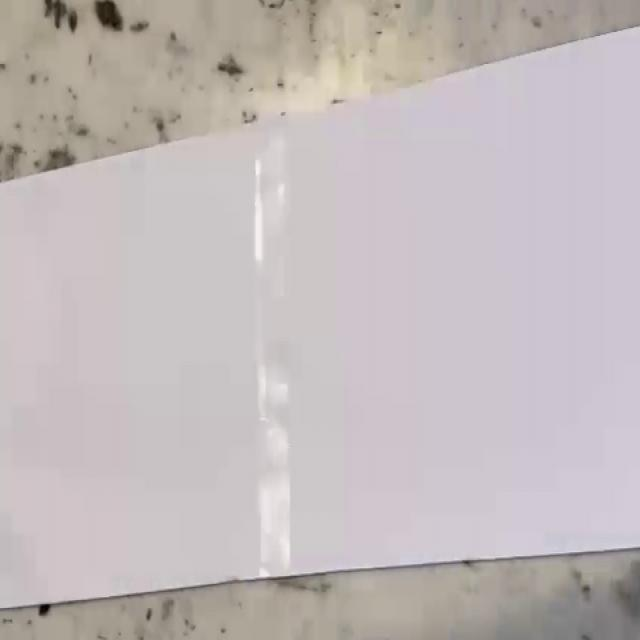road: (0, 27, 640, 608)
